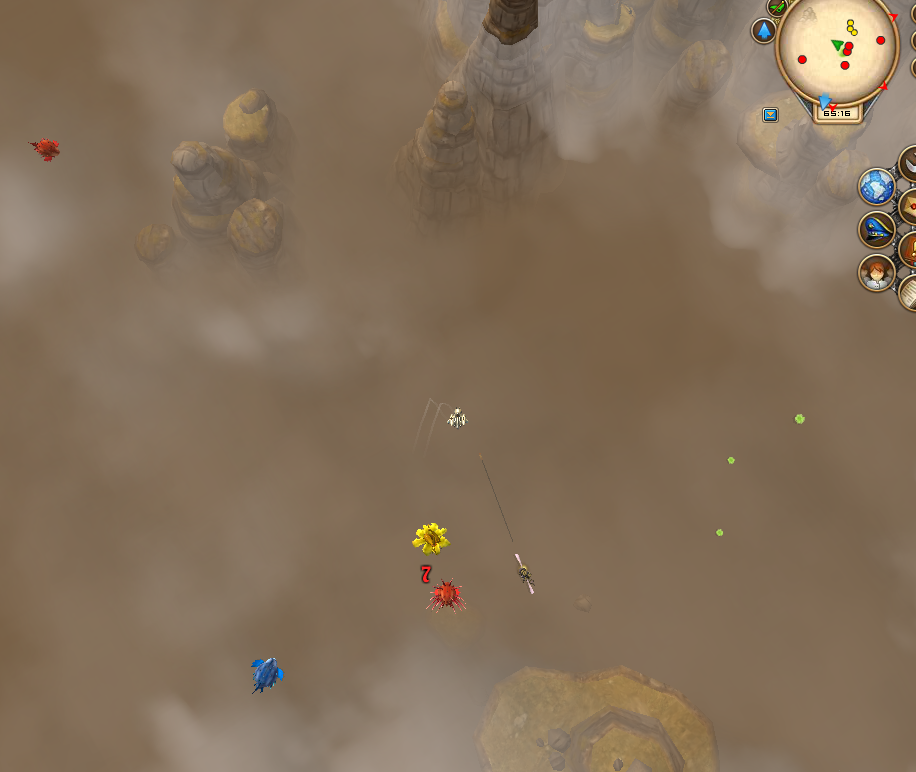dandelion-empty: (408, 518, 454, 558)
fluff: (791, 408, 811, 432), (711, 525, 729, 541), (722, 454, 740, 467)
